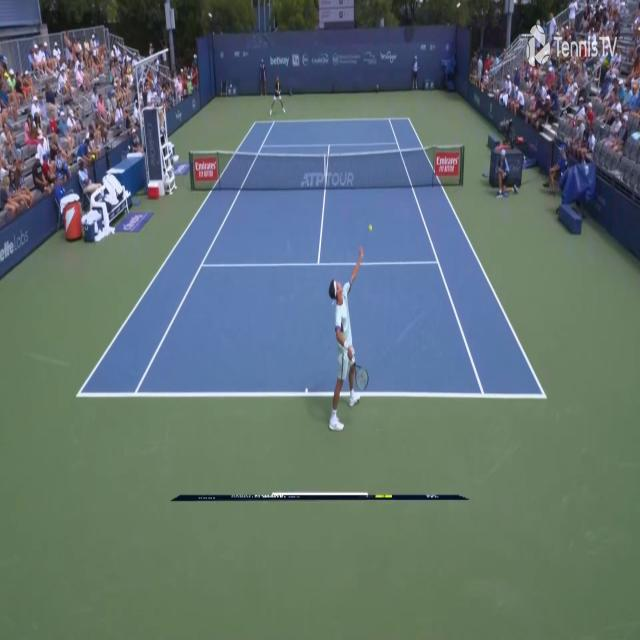tennis-player: (326, 234, 370, 436), (267, 70, 288, 119)
